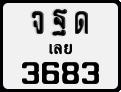letters: (21, 60, 40, 85), (41, 60, 60, 85), (52, 8, 68, 37), (61, 61, 80, 85), (81, 61, 100, 85), (73, 10, 89, 35), (30, 10, 45, 35)
province: (48, 43, 73, 55)
